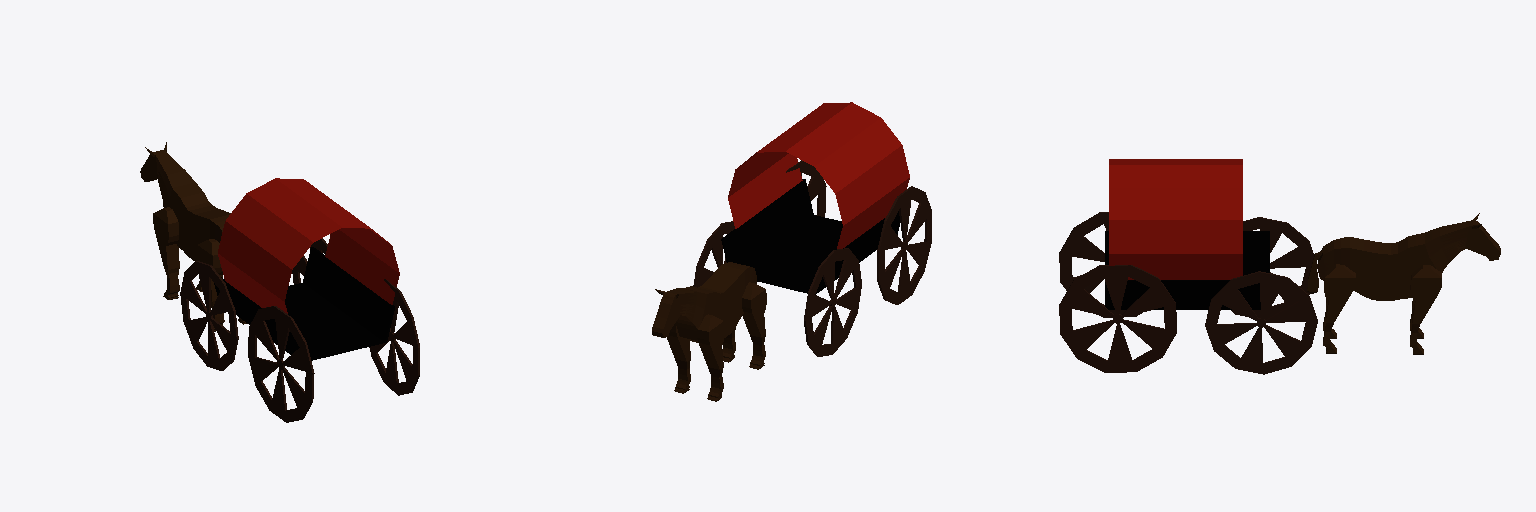
File: wagon.obj
3 views of the same model, side by side, from view 1: azimuth 30°, elevation 25°; view 2: azimuth 150°, elevation 25°; view 3: azimuth 270°, elevation 25° (orthographic).
Parts seen in each view (by area): view 1: Cube.004_Cube.005, Cube.003_Cube.004, Cube_Cube.001, Cube.001_Cube.002; view 2: Cube.004_Cube.005, Cube.003_Cube.004, Cube.001_Cube.002, Cube_Cube.001; view 3: Cube.003_Cube.004, Cube.004_Cube.005, Cube.001_Cube.002, Cube_Cube.001.
Part boxes in pixels (bbox=[...]): Cube.004_Cube.005: bbox=[218, 178, 399, 313]; Cube.003_Cube.004: bbox=[180, 238, 419, 422]; Cube_Cube.001: bbox=[214, 247, 394, 360]; Cube.001_Cube.002: bbox=[140, 142, 247, 331]; Cube.004_Cube.005: bbox=[728, 102, 909, 248]; Cube.003_Cube.004: bbox=[693, 160, 931, 356]; Cube.001_Cube.002: bbox=[652, 262, 766, 401]; Cube_Cube.001: bbox=[721, 179, 899, 294]; Cube.003_Cube.004: bbox=[1059, 212, 1317, 374]; Cube.004_Cube.005: bbox=[1109, 159, 1242, 279]; Cube.001_Cube.002: bbox=[1307, 213, 1500, 354]; Cube_Cube.001: bbox=[1105, 231, 1269, 309].
Bounding box in the file's own units: 0.6092 × 0.8893 × 1.96.